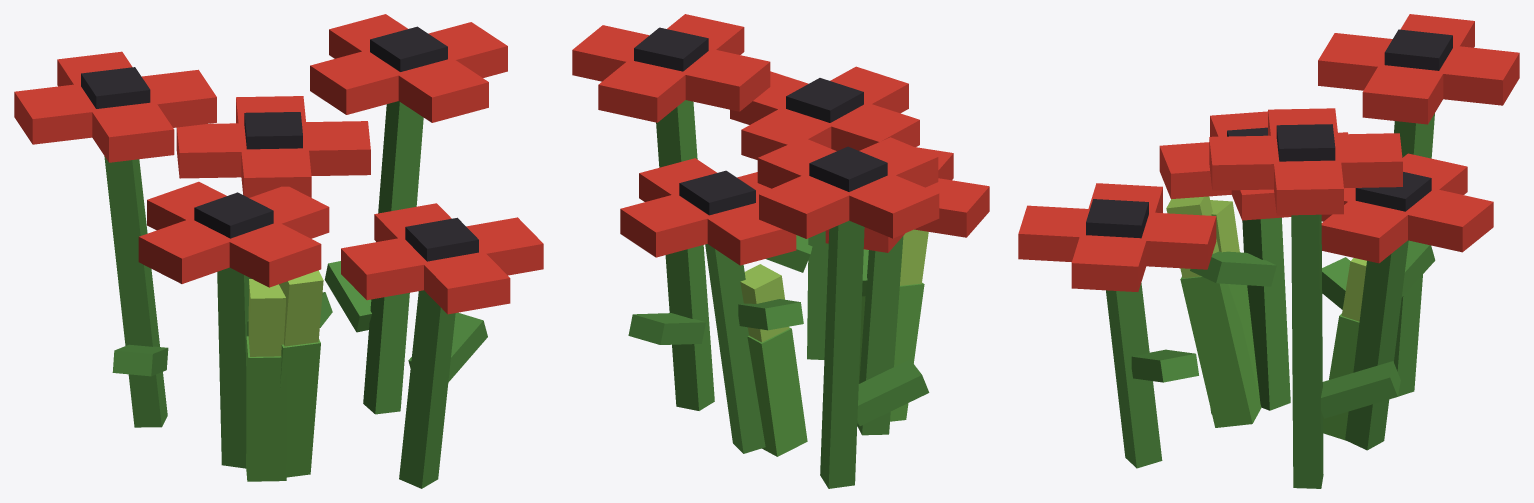
The model's file is B07_flowers_red.obj.
3 views of the same model, side by side, from view 1: azimuth 30°, elevation 25°; view 2: azimuth 150°, elevation 25°; view 3: azimuth 270°, elevation 25° (orthographic).
Parts seen in each view (by area): view 1: B07_flowers_red; view 2: B07_flowers_red; view 3: B07_flowers_red.
Boxes of the visible parts, bbox=[...] form: B07_flowers_red: bbox=[14, 14, 543, 488]; B07_flowers_red: bbox=[572, 14, 989, 488]; B07_flowers_red: bbox=[1018, 14, 1519, 488].
Bounding box in the file's own units: 0.8371 × 0.711 × 0.8933.
